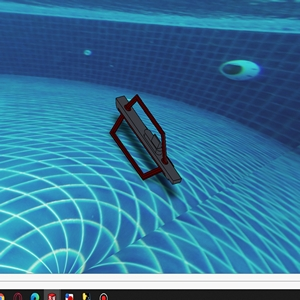submarine: (107, 91, 185, 192)
